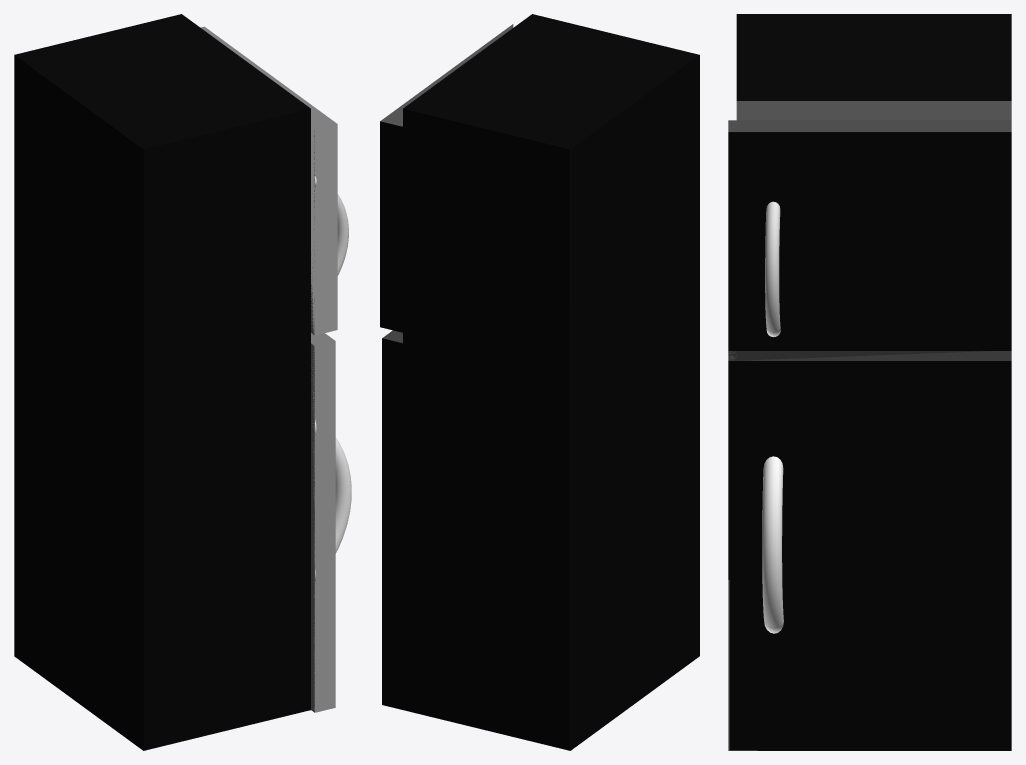
The model's file is Refrigirator.fbx.
3 views of the same model, side by side, from view 1: azimuth 30°, elevation 25°; view 2: azimuth 150°, elevation 25°; view 3: azimuth 270°, elevation 25° (orthographic). The views are drawn at different scales.
Visible parts, largest first — view 1: Refrigerator, Cylinder.001, Cylinder; view 2: Refrigerator; view 3: Refrigerator, Cylinder.001, Cylinder.
Boxes of the visible parts, <box> form: Refrigerator: <box>14,14,337,750</box>; Cylinder.001: <box>315,420,351,582</box>; Cylinder: <box>315,176,348,275</box>; Refrigerator: <box>380,14,699,750</box>; Refrigerator: <box>728,14,1011,750</box>; Cylinder.001: <box>762,456,783,633</box>; Cylinder: <box>765,201,780,337</box>.
Bounding box in the file's own units: 200 × 513 × 206.
